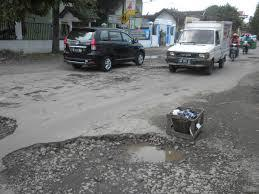Pothole: (4, 73, 259, 194), (0, 101, 26, 141), (105, 68, 131, 90), (21, 83, 52, 101), (6, 81, 27, 101), (51, 78, 70, 94)
